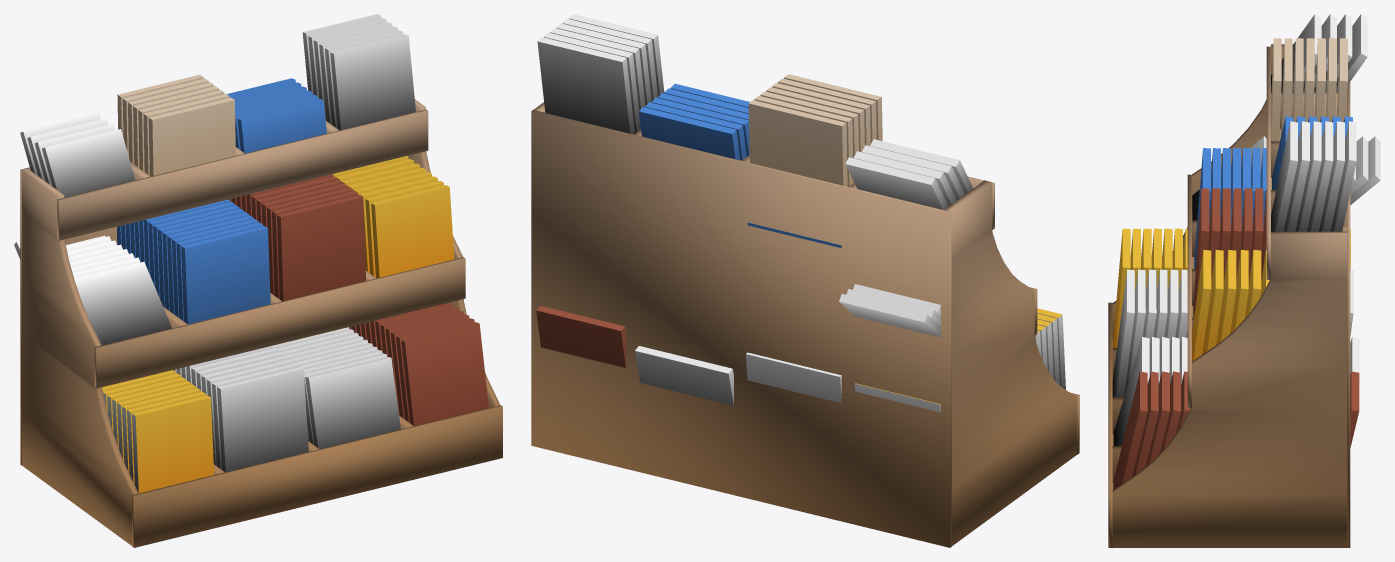
Rendered from SM_TeaShevles .fbx.
3 renders of one model, left to right at view 1: azimuth 30°, elevation 25°; view 2: azimuth 150°, elevation 25°; view 3: azimuth 270°, elevation 25°, orthographic. The views are drawn at different scales.
Visible parts, largest first — view 1: Cube.019; view 2: Cube.019; view 3: Cube.019.
Part boxes in pixels (x1=…): Cube.019: x1=14, y1=14, x2=502, y2=547; Cube.019: x1=531, y1=14, x2=1079, y2=547; Cube.019: x1=1108, y1=14, x2=1380, y2=547.
Bounding box in the file's own units: 204 × 191 × 123.
